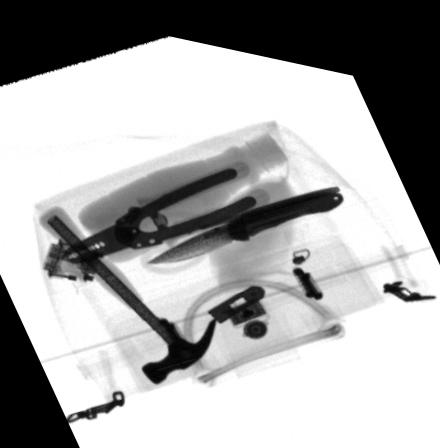Hammer: (37, 201, 214, 378)
Knife: (144, 169, 343, 257)
Pliers: (61, 149, 271, 261)
Scissors: (120, 170, 339, 269)
